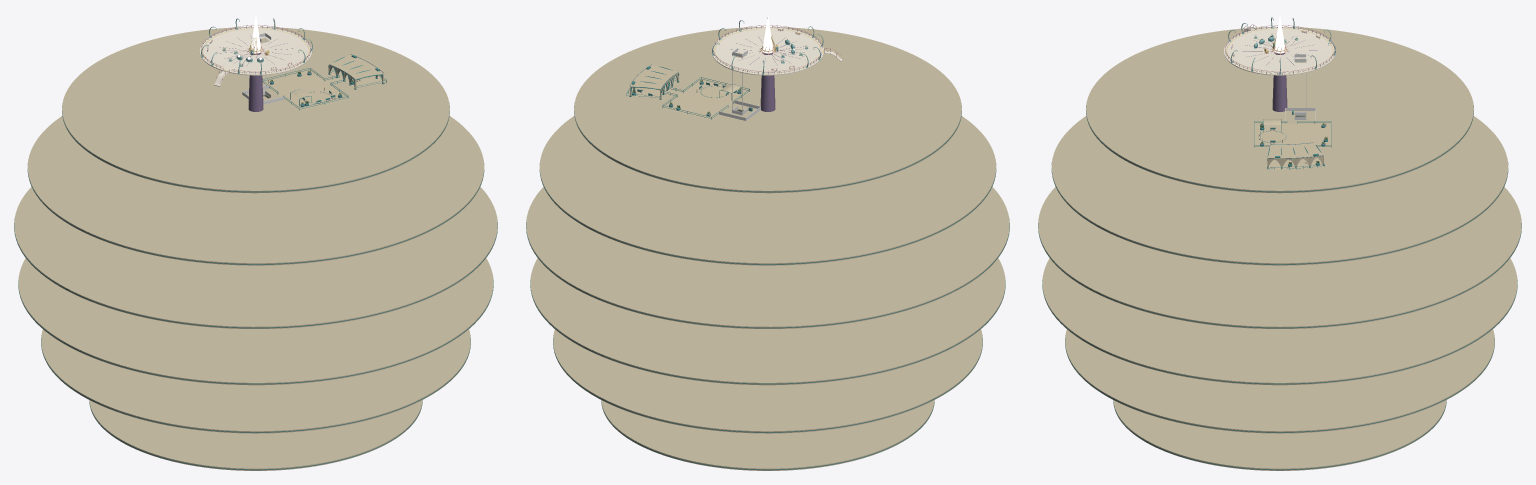
Rendered from ship_commons_blockout.glb.
3 renders of one model, left to right at view 1: azimuth 30°, elevation 25°; view 2: azimuth 150°, elevation 25°; view 3: azimuth 270°, elevation 25°, orthographic.
Parts seen in each view (by area): view 1: Deck 01 top 57m, Deck 02 top 32m, Deck 03 top 7m, Deck 04 top -18m, Deck 05 top -43m, Deck 06 top -68m, COMMONS_floor_paving, COMMONS_arcade_terrace, Deck 04 edge, Deck 03 edge, Deck 02 edge, deck_floor_fill (+3 smaller); view 2: Deck 01 top 57m, Deck 02 top 32m, Deck 03 top 7m, Deck 04 top -18m, Deck 05 top -43m, Deck 06 top -68m, COMMONS_floor_paving, Deck 04 edge, COMMONS_arcade_terrace, Deck 03 edge, Deck 02 edge, deck_floor_fill (+3 smaller); view 3: Deck 01 top 57m, Deck 02 top 32m, Deck 03 top 7m, Deck 04 top -18m, Deck 05 top -43m, Deck 06 top -68m, COMMONS_floor_paving, COMMONS_arcade_terrace, Deck 03 edge, Deck 04 edge, deck_floor_fill, Deck 02 edge (+3 smaller).
Part boxes in pixels (left/top/right/bottom): Deck 01 top 57m: left=62, top=27, right=449, bottom=193; Deck 02 top 32m: left=27, top=96, right=484, bottom=265; Deck 03 top 7m: left=14, top=187, right=497, bottom=328; Deck 04 top -18m: left=18, top=258, right=493, bottom=385; Deck 05 top -43m: left=41, top=329, right=470, bottom=433; Deck 06 top -68m: left=89, top=400, right=422, bottom=470; COMMONS_floor_paving: left=262, top=71, right=347, bottom=110; COMMONS_arcade_terrace: left=329, top=54, right=383, bottom=79; Deck 04 edge: left=18, top=279, right=493, bottom=384; Deck 03 edge: left=14, top=217, right=497, bottom=328; Deck 02 edge: left=27, top=163, right=484, bottom=264; deck_floor_fill: left=199, top=27, right=311, bottom=74; Deck 01 top 57m: left=574, top=27, right=961, bottom=193; Deck 02 top 32m: left=539, top=116, right=996, bottom=265; Deck 03 top 7m: left=526, top=187, right=1009, bottom=328; Deck 04 top -18m: left=530, top=258, right=1005, bottom=385; Deck 05 top -43m: left=553, top=329, right=982, bottom=433; Deck 06 top -68m: left=601, top=400, right=934, bottom=470; COMMONS_floor_paving: left=663, top=80, right=749, bottom=119; Deck 04 edge: left=530, top=279, right=1005, bottom=384; COMMONS_arcade_terrace: left=629, top=64, right=678, bottom=89; Deck 03 edge: left=526, top=217, right=1009, bottom=328; Deck 02 edge: left=539, top=163, right=996, bottom=264; deck_floor_fill: left=711, top=27, right=823, bottom=74; Deck 01 top 57m: left=1086, top=27, right=1473, bottom=193; Deck 02 top 32m: left=1051, top=116, right=1508, bottom=265; Deck 03 top 7m: left=1038, top=187, right=1521, bottom=328; Deck 04 top -18m: left=1042, top=258, right=1517, bottom=385; Deck 05 top -43m: left=1065, top=329, right=1494, bottom=433; Deck 06 top -68m: left=1113, top=400, right=1446, bottom=470; COMMONS_floor_paving: left=1254, top=124, right=1330, bottom=147; COMMONS_arcade_terrace: left=1267, top=142, right=1323, bottom=158; Deck 03 edge: left=1038, top=223, right=1521, bottom=328; Deck 04 edge: left=1042, top=279, right=1517, bottom=384; deck_floor_fill: left=1223, top=27, right=1336, bottom=74; Deck 02 edge: left=1051, top=163, right=1508, bottom=264.
Size of the model in its own units: 189 by 178 by 189.
